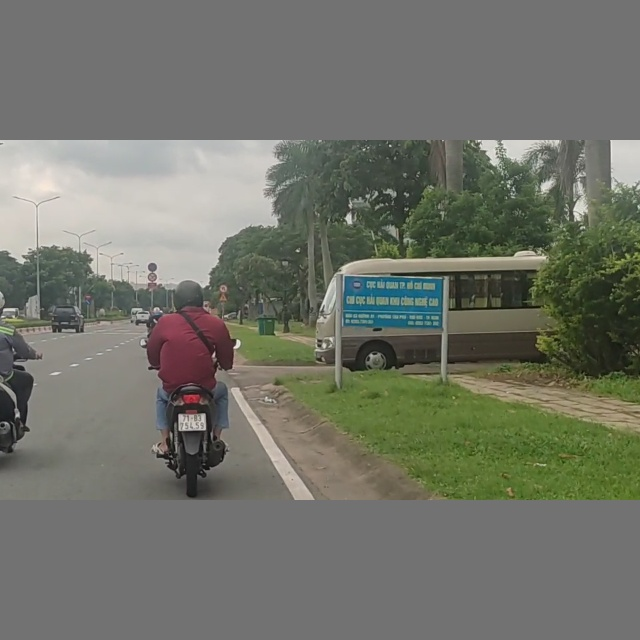P.102: (85, 293, 91, 299)
P.111: (148, 273, 157, 282)
P.124a*: (218, 284, 228, 293)
P.130: (147, 263, 157, 272)
R.302a: (85, 300, 91, 305)
W.224: (218, 293, 227, 302)
